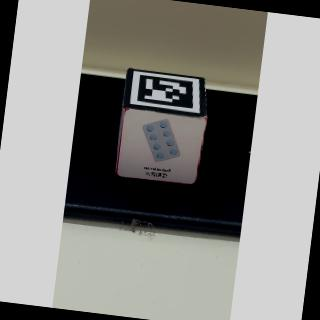Tablet: (116, 106, 209, 188)
